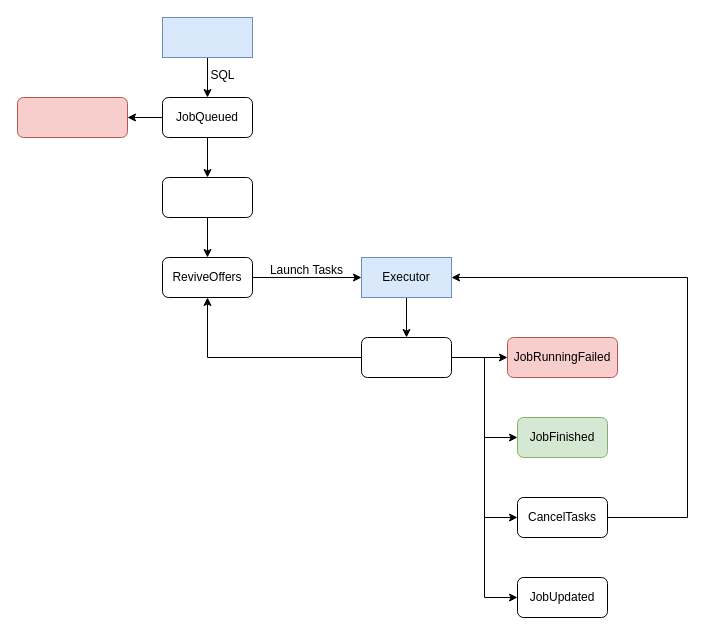
Some shapes in this 713 by 635 pixel diagram are drawn without their labels. Here are the shapes that lost their labels. From the top down, the box of each, then its label:
(162, 16, 252, 58): Client
(16, 96, 128, 138): JobPlanningFailed
(162, 176, 252, 218): JobSubmitted
(360, 336, 452, 378): TaskUpdating
